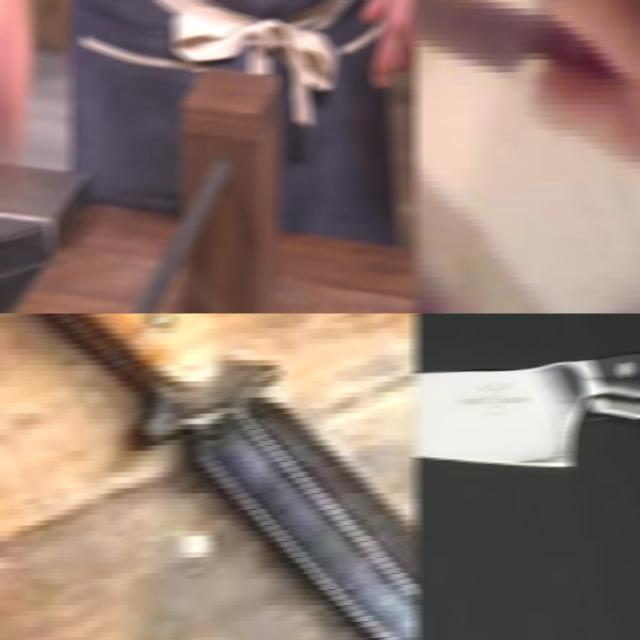Knife: (42, 313, 418, 640), (414, 349, 640, 467)
Knife_Handle: (414, 0, 640, 184)
